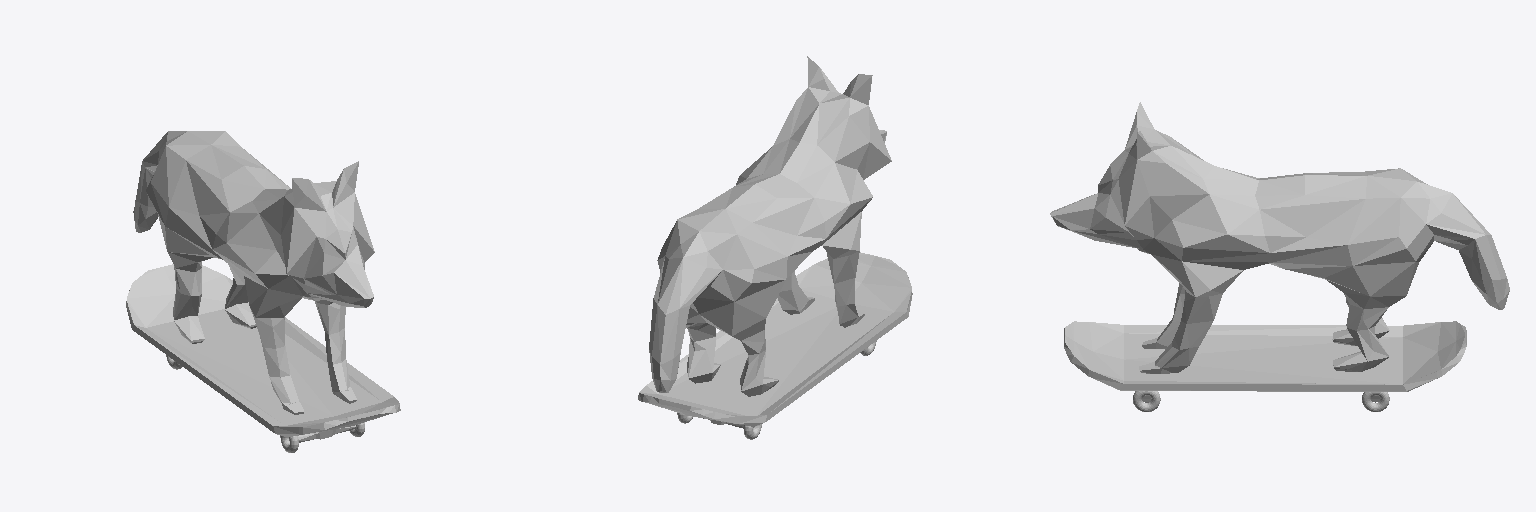
File: Fuchs33.obj
3 renders of one model, left to right at view 1: azimuth 30°, elevation 25°; view 2: azimuth 150°, elevation 25°; view 3: azimuth 270°, elevation 25°, orthographic.
Size of the model in its own units: 3.58 by 7.88 by 11.76.